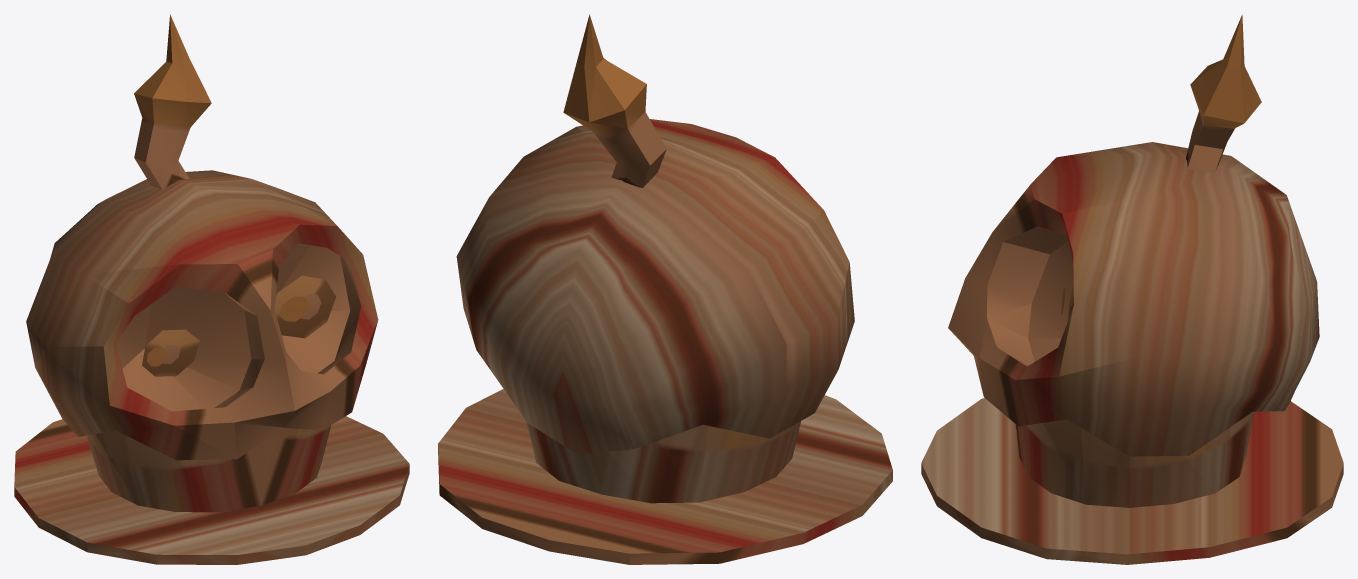
The model's file is cupcake_intermediaire.fbx.
3 renders of one model, left to right at view 1: azimuth 30°, elevation 25°; view 2: azimuth 150°, elevation 25°; view 3: azimuth 270°, elevation 25°, orthographic. The views are drawn at different scales.
Visible parts, largest first — view 1: Object_2; view 2: Object_2; view 3: Object_2.
Boxes of the visible parts, <box> form: Object_2: <box>14,14,409,564</box>; Object_2: <box>438,14,892,564</box>; Object_2: <box>921,15,1343,564</box>.
Size of the model in its own units: 162 by 193 by 159.
